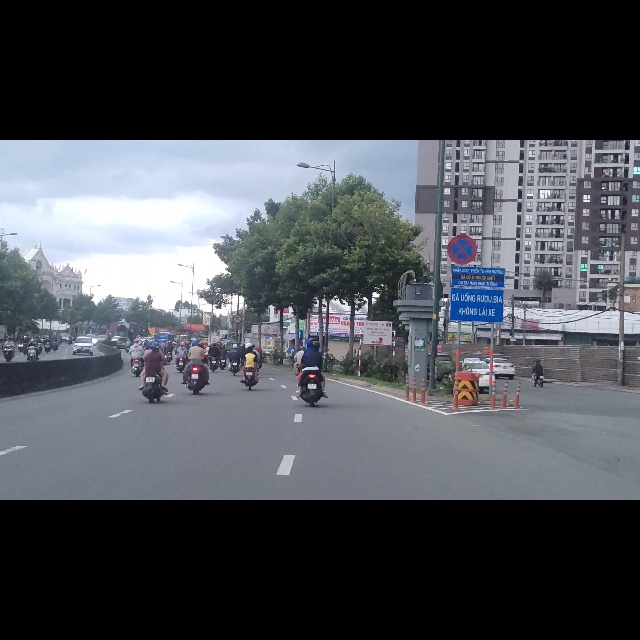bien_cam: (448, 167, 478, 222), (233, 309, 242, 327)
